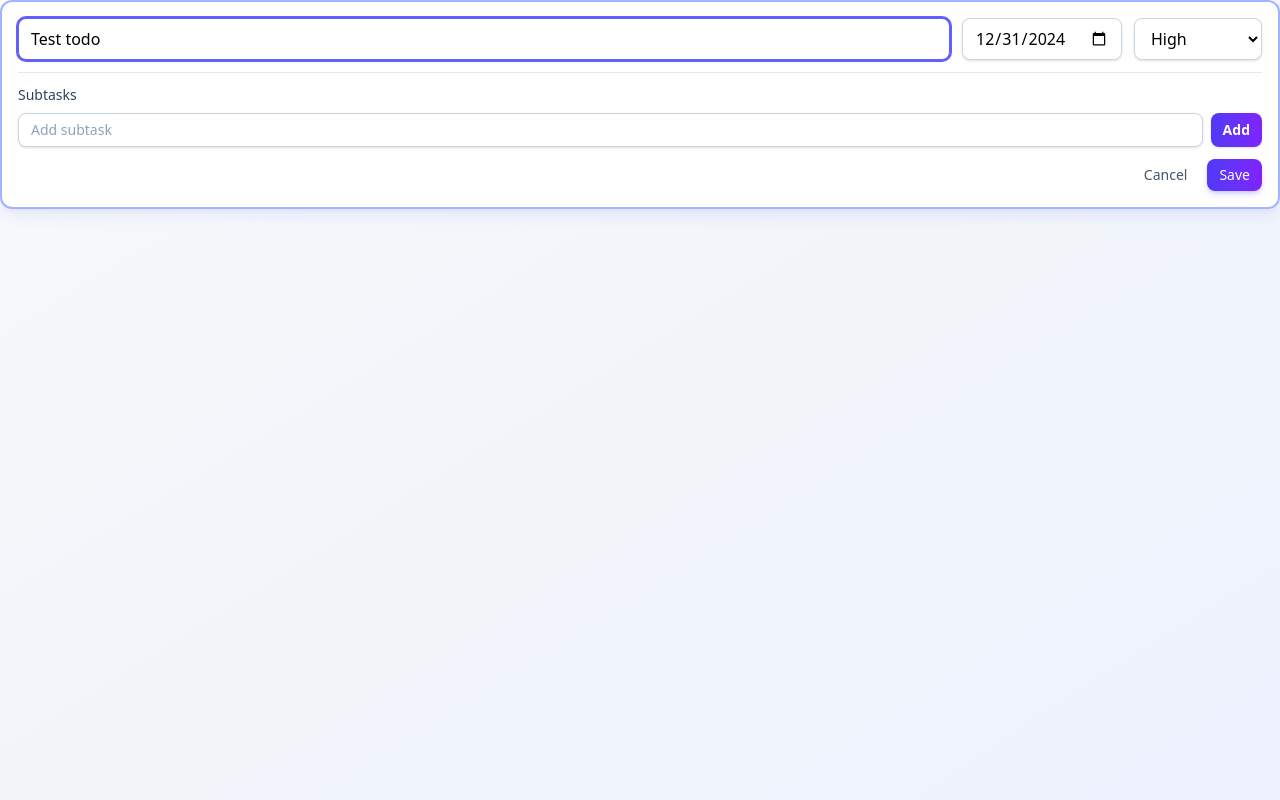
Test: EditTodoForm › subtasks functionality › can add a new subtask while editing
Step 1. Type "New subtask" into the field named "new subtask" → coordinates (610, 130), box [18, 113, 1203, 147]
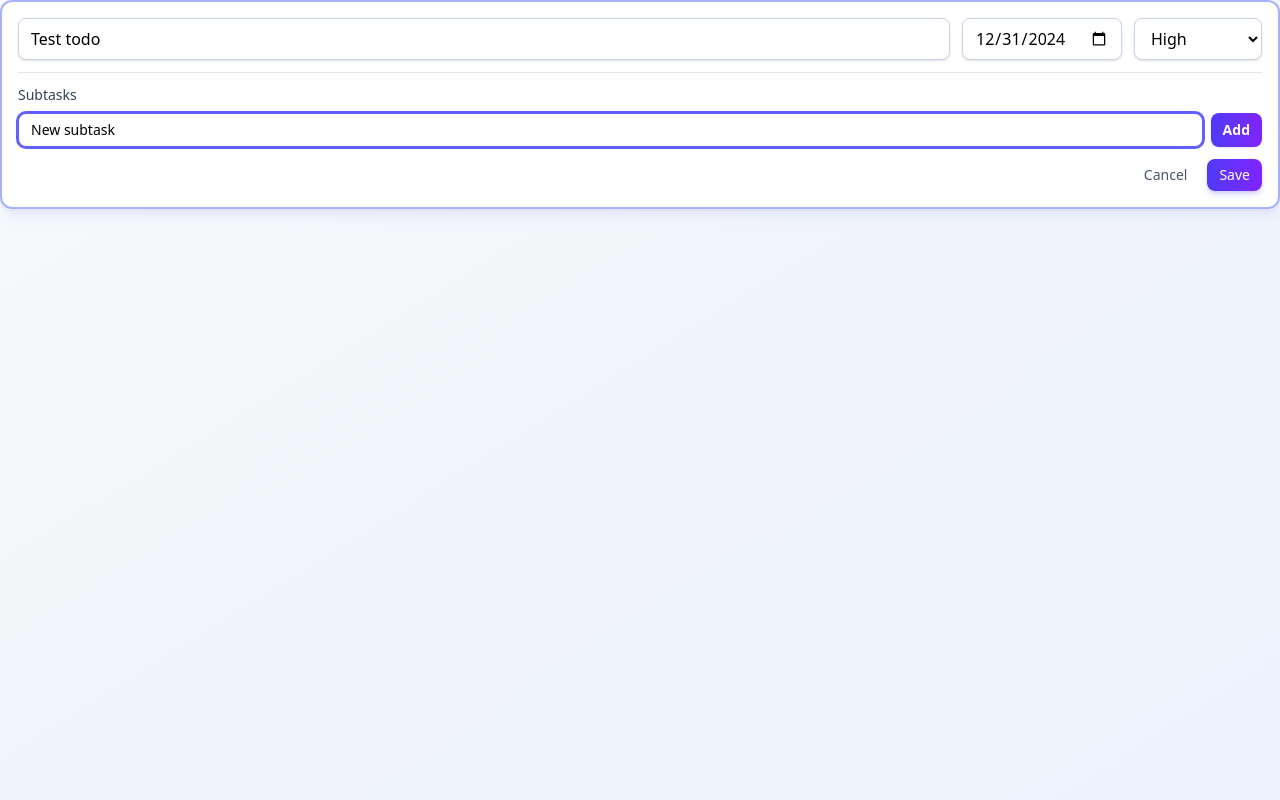
Step 2. Click the button with aria-label "add subtask" → coordinates (1236, 130), box [1211, 113, 1262, 147]
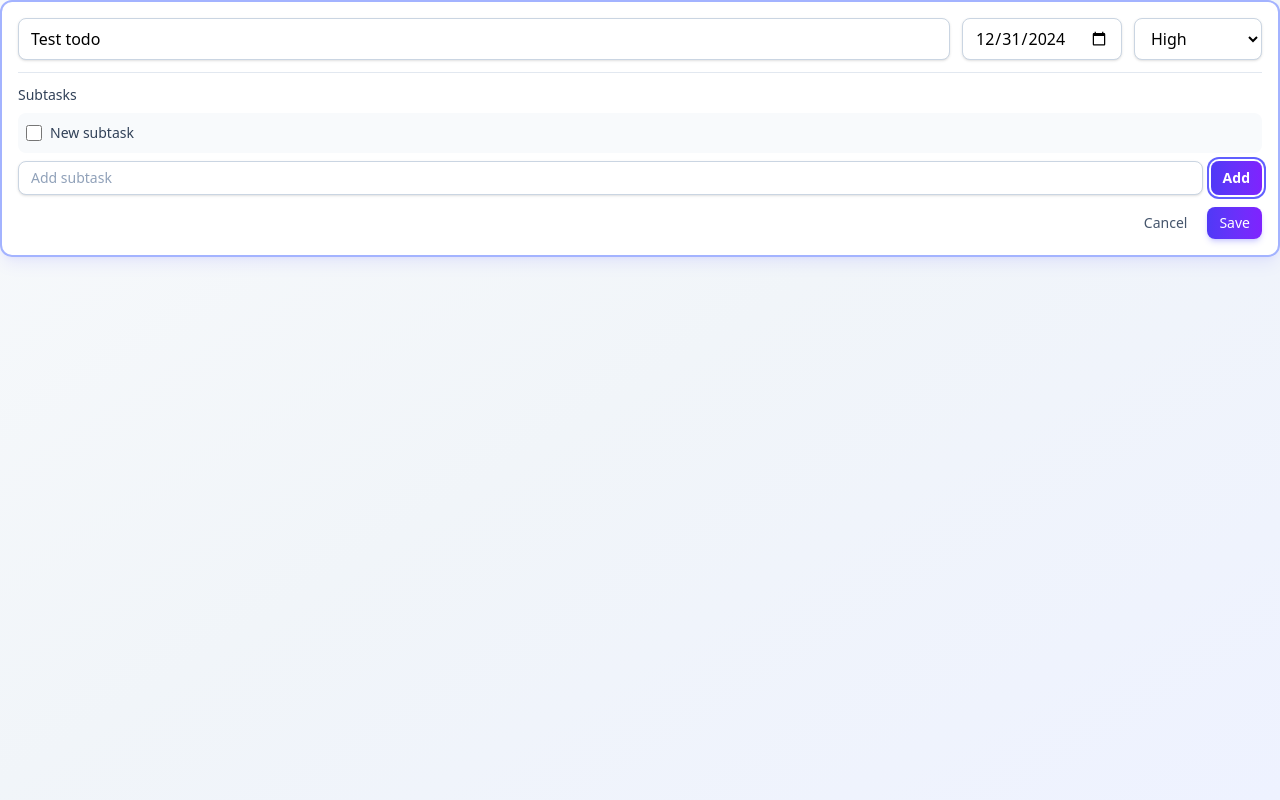
Expected: the text "New subtask" is shown, [50, 123, 134, 142]
